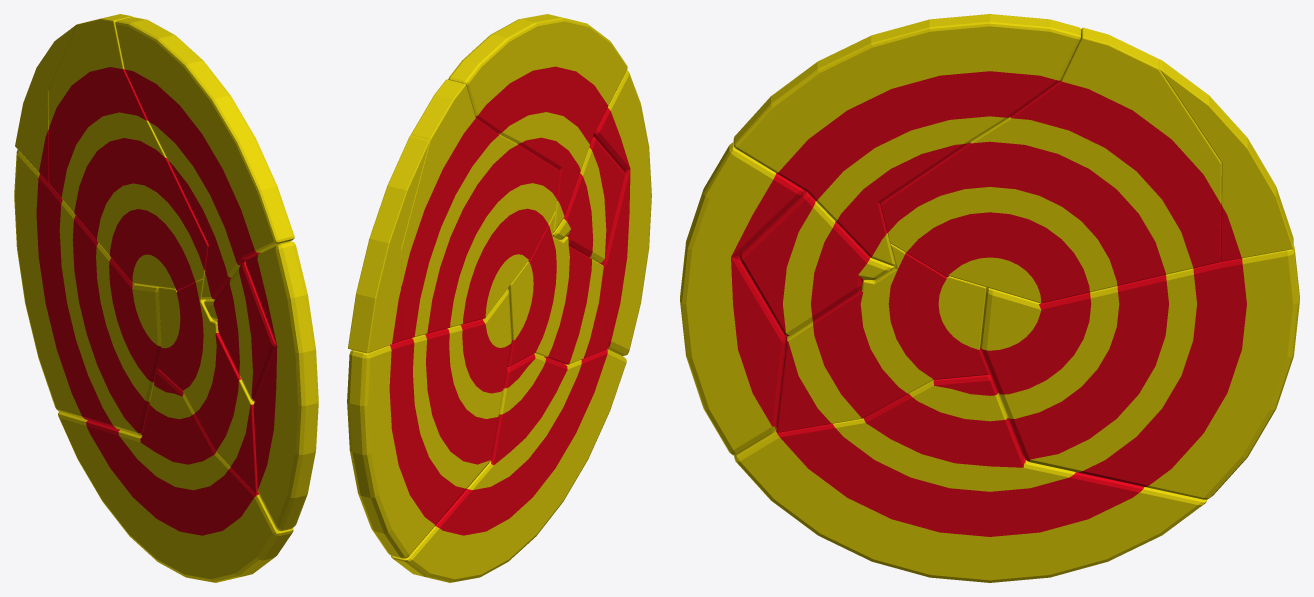
The model's file is BrokenTarget.fbx.
3 views of the same model, side by side, from view 1: azimuth 30°, elevation 25°; view 2: azimuth 150°, elevation 25°; view 3: azimuth 270°, elevation 25° (orthographic). The views are drawn at different scales.
Visible parts, largest first — view 1: Circle.006, Circle.008, Circle.001, Circle.004, Circle.003, Circle.005, Circle.002, Circle.007; view 2: Circle.008, Circle.006, Circle.001, Circle.004, Circle.005, Circle.003, Circle.007, Circle.002; view 3: Circle.006, Circle.008, Circle.001, Circle.004, Circle.005, Circle.003, Circle.002, Circle.007.
Part boxes in pixels (x1,y1,x2,y2): Circle.006: (48,14,208,291); Circle.008: (14,149,161,435); Circle.001: (58,369,293,582); Circle.004: (115,17,294,299); Circle.003: (246,241,318,531); Circle.005: (157,279,258,494); Circle.002: (204,261,275,401); Circle.007: (15,24,78,182); Circle.008: (347,288,511,558); Circle.006: (401,79,560,340); Circle.001: (391,349,626,582); Circle.004: (448,14,627,232); Circle.005: (507,211,608,366); Circle.003: (593,70,651,356); Circle.007: (348,135,429,353); Circle.002: (553,136,624,262); Circle.006: (880,27,1221,303); Circle.008: (980,246,1299,499); Circle.001: (734,372,1206,582); Circle.004: (733,14,1081,266); Circle.005: (776,243,989,432); Circle.003: (680,142,803,455); Circle.002: (740,190,893,336); Circle.007: (1159,59,1293,261).
Bounding box in the file's own units: 8.06 × 200 × 200.
